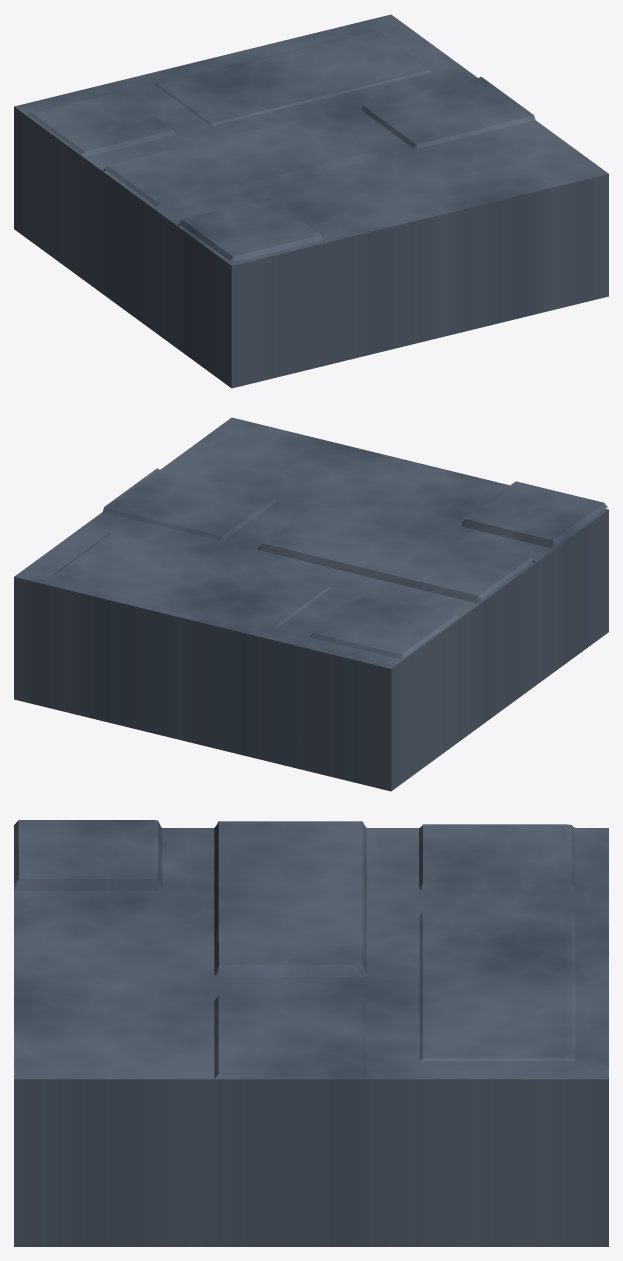
The model's file is BricksTile7.glb.
3 views of the same model, one above another, from view 1: azimuth 30°, elevation 25°; view 2: azimuth 150°, elevation 25°; view 3: azimuth 270°, elevation 25° (orthographic). The views are drawn at different scales.
Visible parts, largest first — view 1: BricksTile7; view 2: BricksTile7; view 3: BricksTile7.
Part boxes in pixels (x1,y1,x2,y2): BricksTile7: (14, 14, 608, 388); BricksTile7: (14, 417, 608, 791); BricksTile7: (14, 820, 608, 1246).
Bounding box in the file's own units: 2 × 0.6581 × 2.
1 material, 1 textured.
